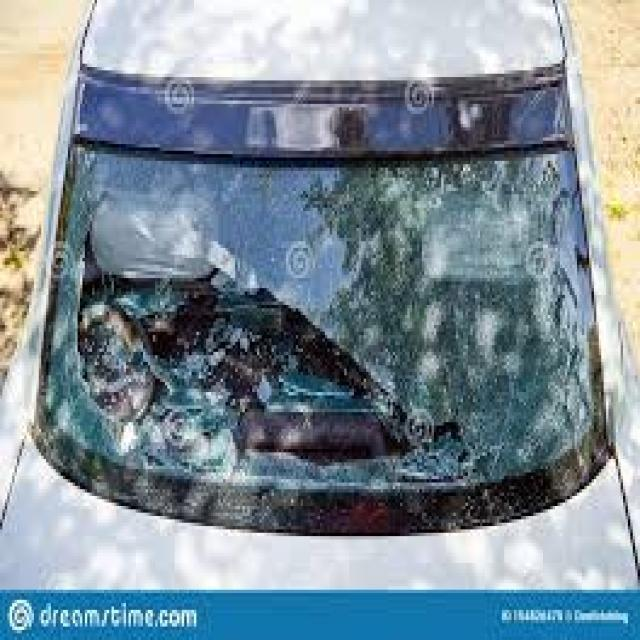damaged-rear-window: (35, 129, 622, 505)
